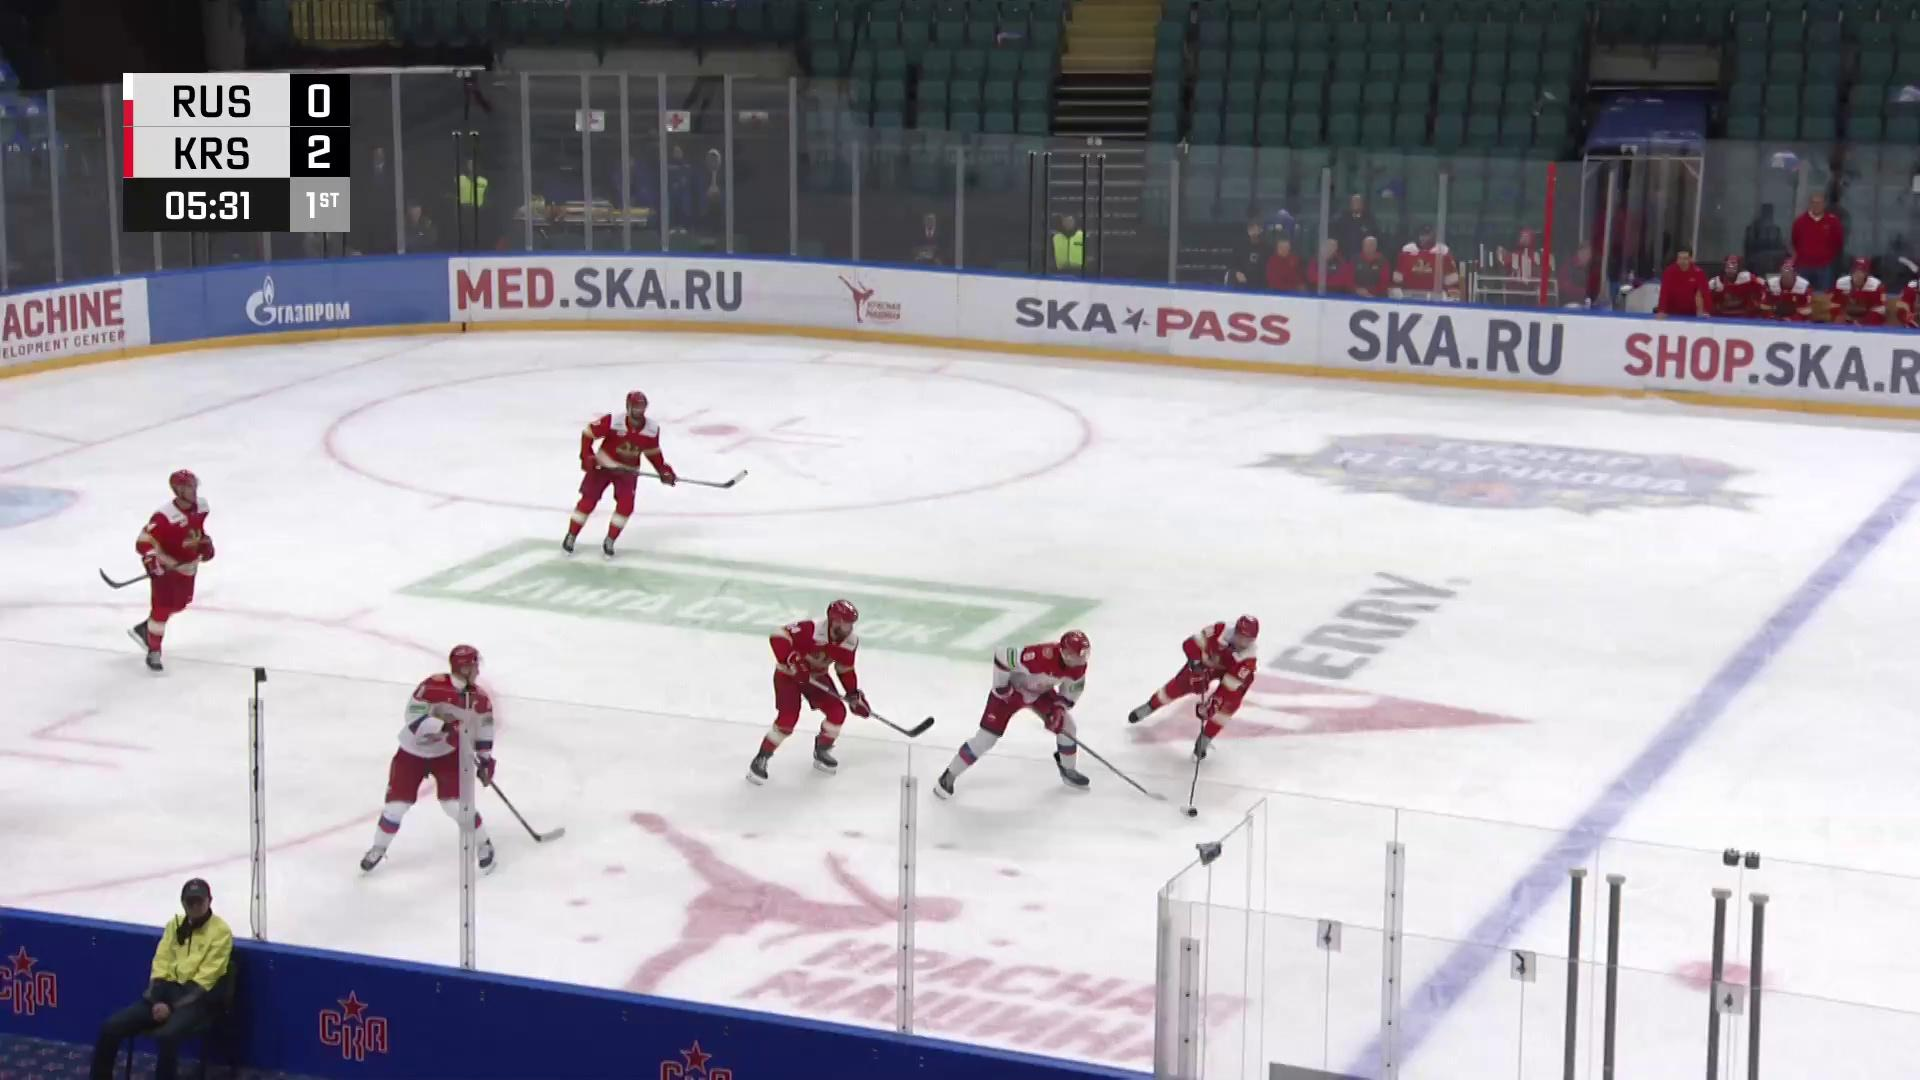ball: (1184, 806, 1199, 819)
